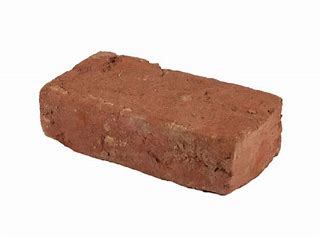brick: (37, 49, 284, 198)
